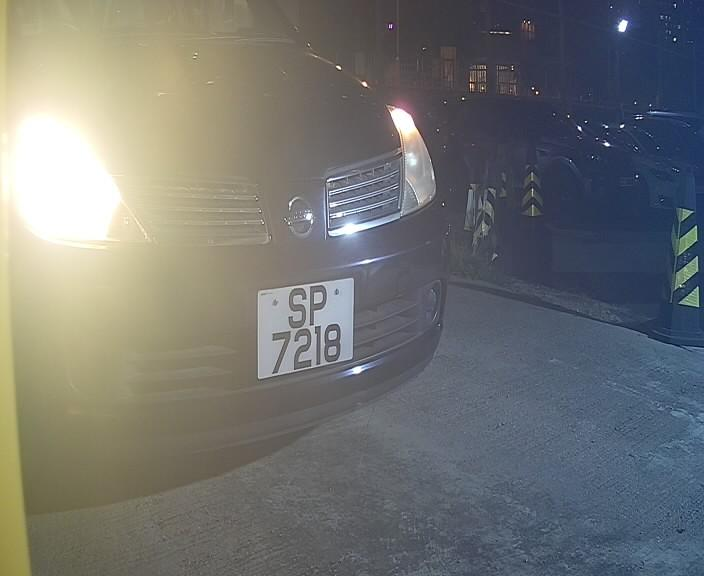License Plate: (246, 268, 365, 391)
